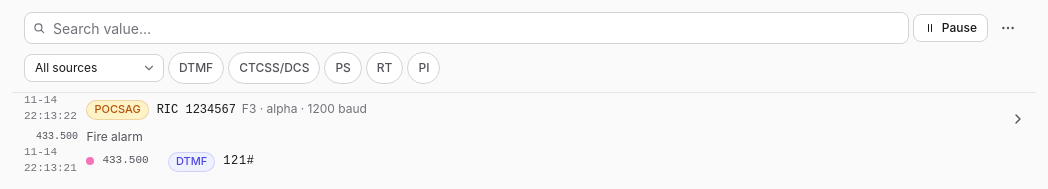
Test case: filters by source on the server and offers the sources seen
The image size is (1048, 189).
Step 1. Select "pocsag" in the dropdown named "Source" → [94, 68], box [24,54,164,82]
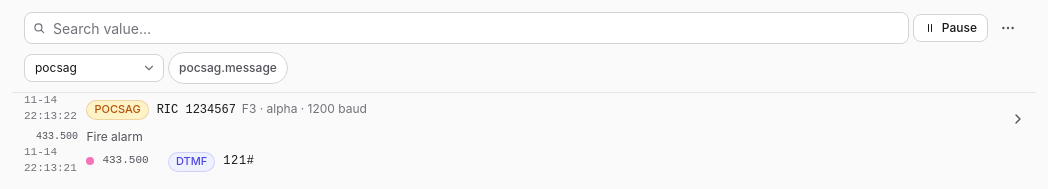
Check: the button "pocsag.message" is shown, box [168,52,288,84]
